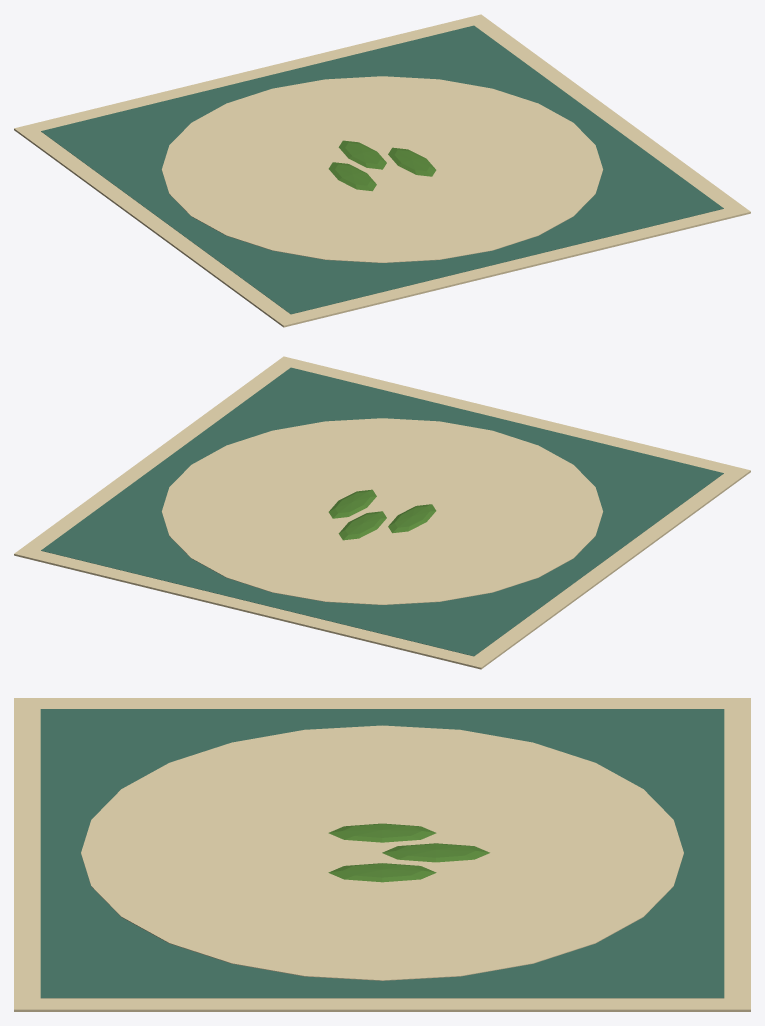
File: rug_round.glb
The picture shows the model from 3 angles, top to bottom: view 1: azimuth 30°, elevation 25°; view 2: azimuth 150°, elevation 25°; view 3: azimuth 270°, elevation 25°; orthographic projection. The views are drawn at different scales.
Parts seen in each view (by area): view 1: rug_round; view 2: rug_round; view 3: rug_round.
Boxes of the visible parts, left/top/right/bottom form: rug_round: left=14, top=14, right=750, bottom=327; rug_round: left=14, top=356, right=750, bottom=669; rug_round: left=14, top=698, right=750, bottom=1011.
Bounding box in the file's own units: 2.2 × 0.0224 × 2.2.
